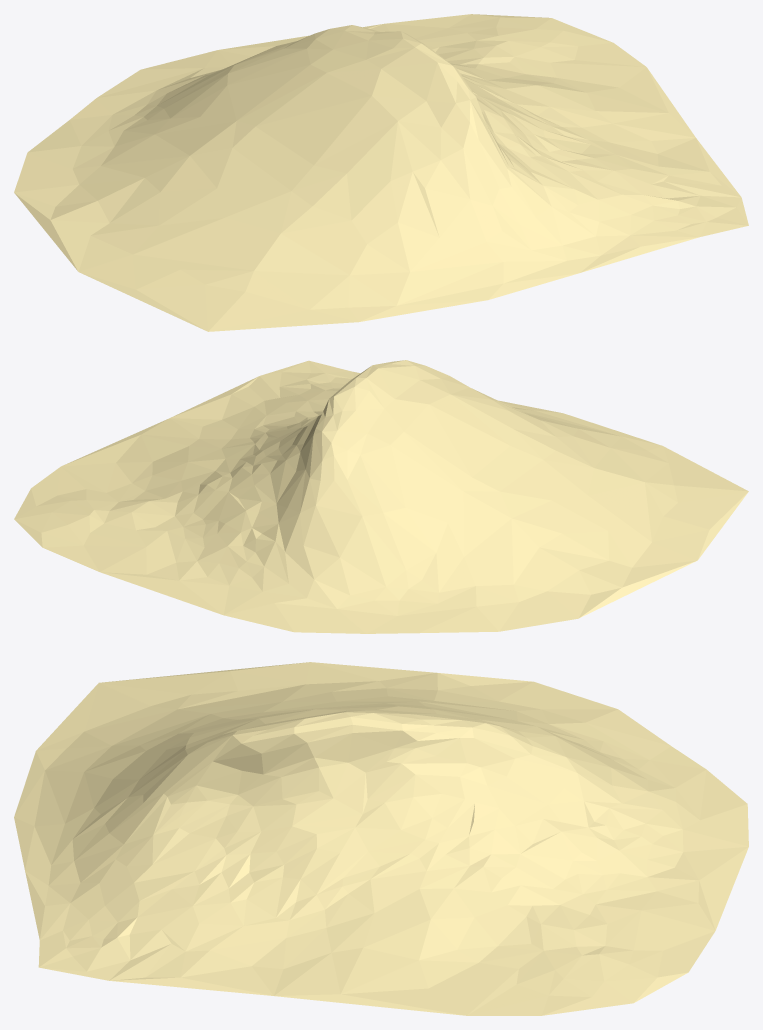
File: Hill_m_02.fbx
The picture shows the model from 3 angles, top to bottom: view 1: azimuth 30°, elevation 25°; view 2: azimuth 150°, elevation 25°; view 3: azimuth 270°, elevation 25°; orthographic projection. The views are drawn at different scales.
Visible parts, largest first — view 1: Hill_m_02; view 2: Hill_m_02; view 3: Hill_m_02.
Boxes of the visible parts, left/top/right/bottom form: Hill_m_02: left=14, top=14, right=748, bottom=331; Hill_m_02: left=14, top=360, right=748, bottom=633; Hill_m_02: left=14, top=662, right=748, bottom=1015.
Size of the model in its own units: 9753 by 1880 by 8584.
